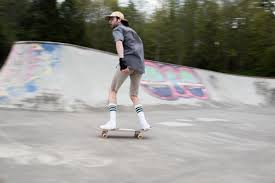Person: (96, 8, 152, 132)
